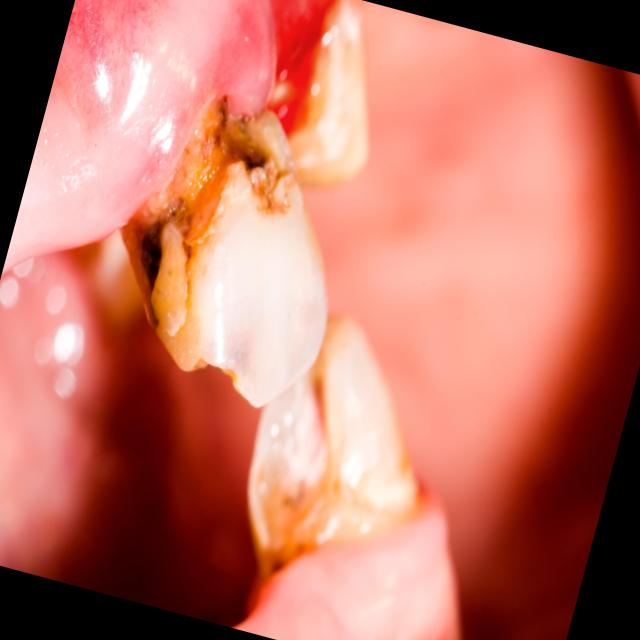Caries: (142, 238, 161, 284), (245, 155, 265, 169), (274, 564, 281, 572)
Cavity: (122, 94, 293, 332)
Tooth: (122, 94, 328, 409), (248, 315, 428, 577), (256, 0, 367, 187)
